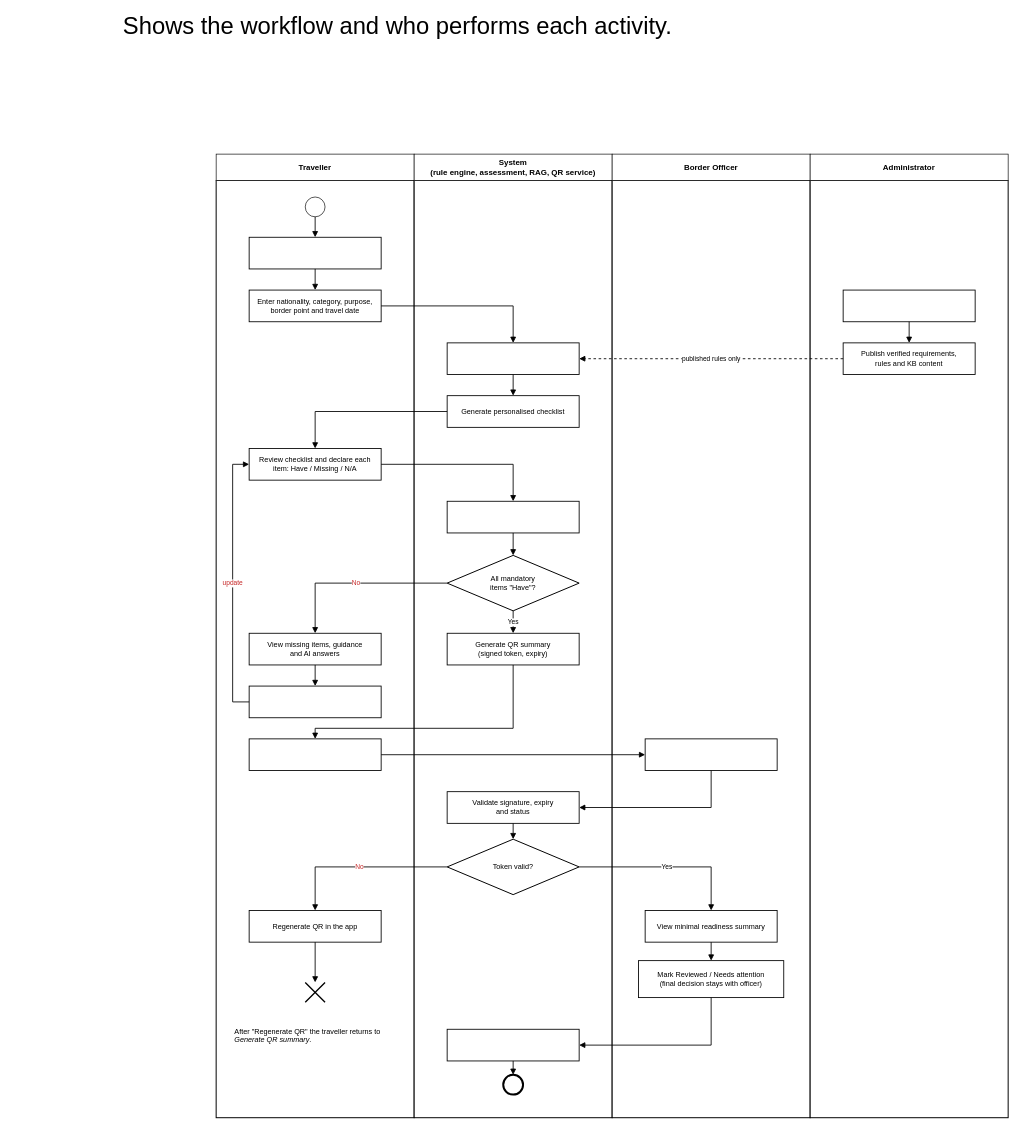
Some shapes in this 1020 by 1130 pixel diagram are drawn without their labels. The shapes that lost their labels are listed below. From the top down, each one's centre as x and y in pixels, then its label:
point (314, 253): Register / log in and give consent
point (908, 305): Review AI-drafted changes: approve / reject
point (512, 358): Identify applicable requirements (rule engine)
point (512, 517): Calculate readiness score and list missing items
point (314, 701): Update declarations
point (314, 754): Present QR at the border
point (710, 754): Scan QR summary
point (512, 1045): Log scan event
